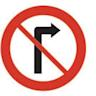No_turn_right: (1, 4, 87, 93)
